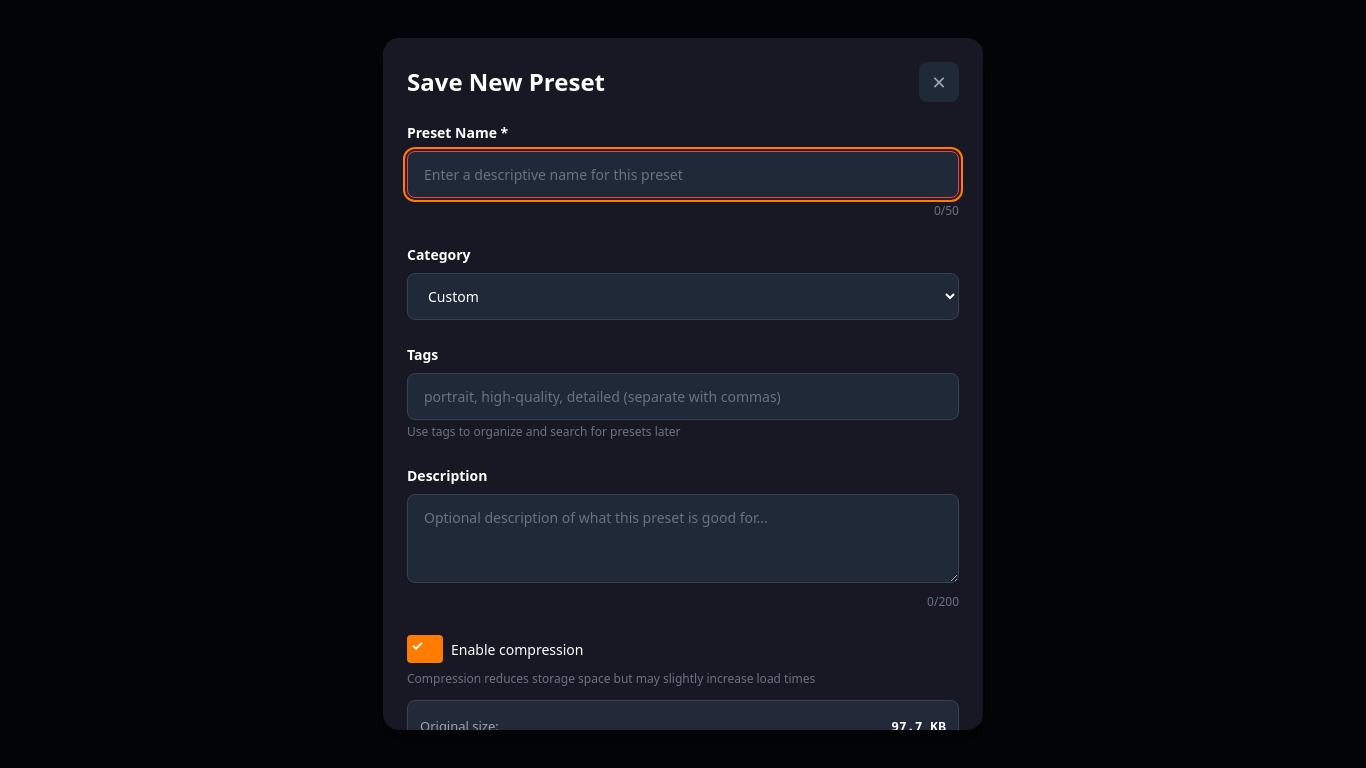
it: PresetSaveDialog › form submission › should show loading state during save
Type "Test Preset" into the field labelled "Preset Name *" at (683,175), box top-left (407, 151), bottom-right (959, 198)
(page scrolled)
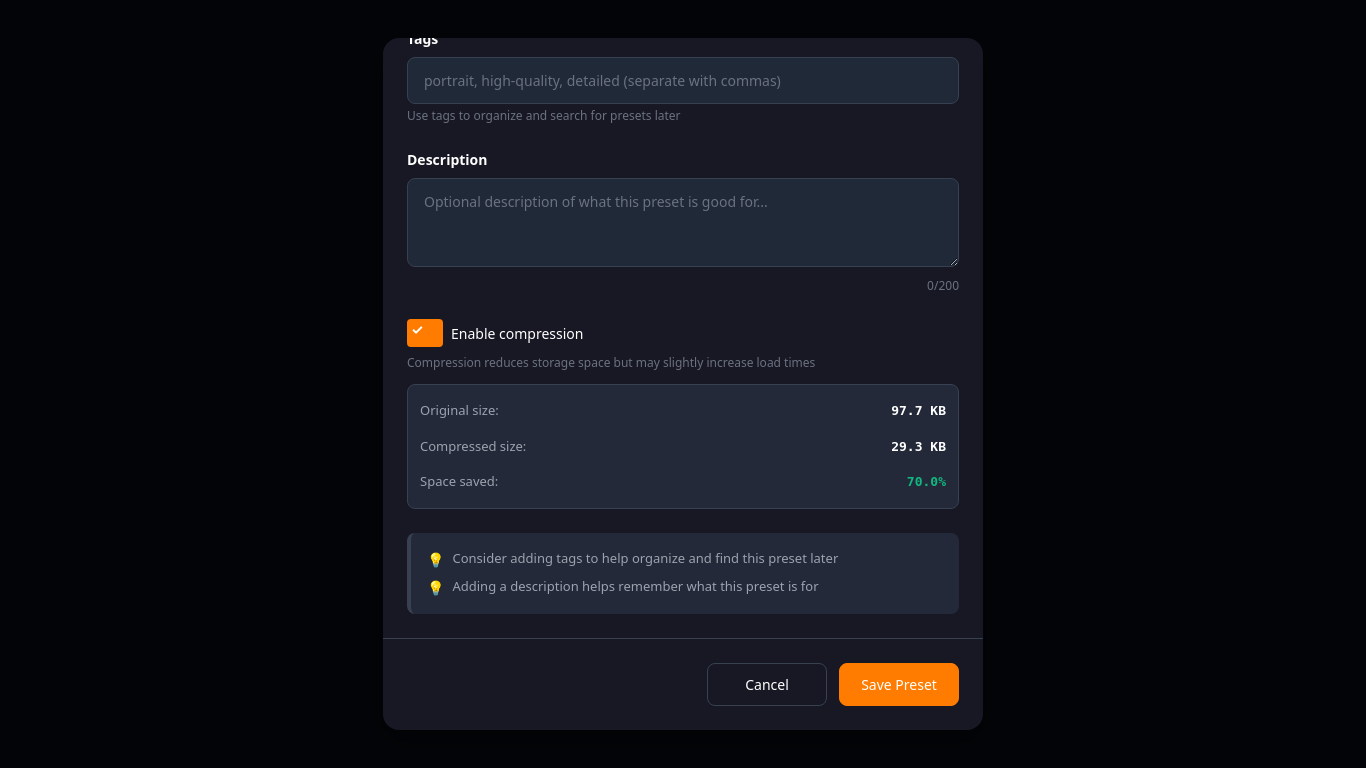
Click the button "Save Preset" at (899,684), box top-left (839, 663), bottom-right (959, 706)
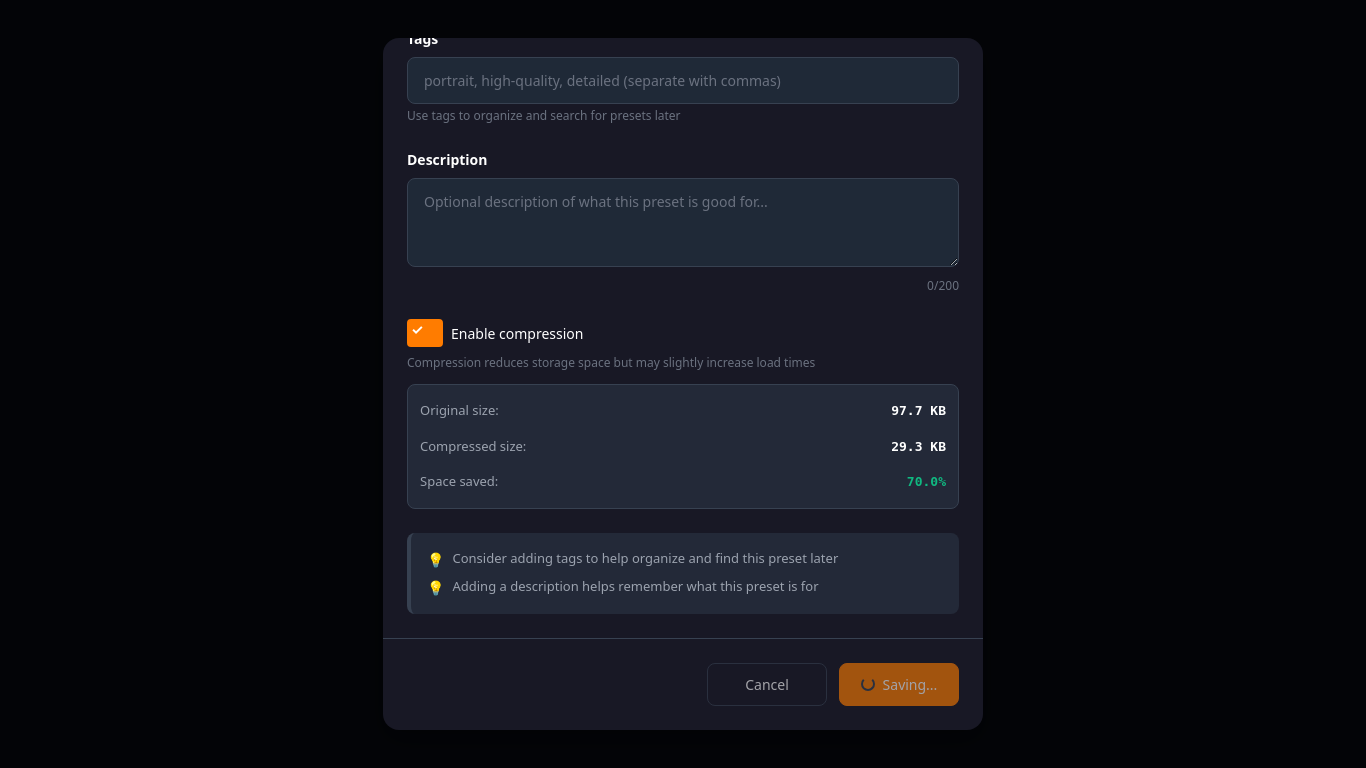
Now the button "Saving..." is disabled, box top-left (839, 663), bottom-right (959, 706)
